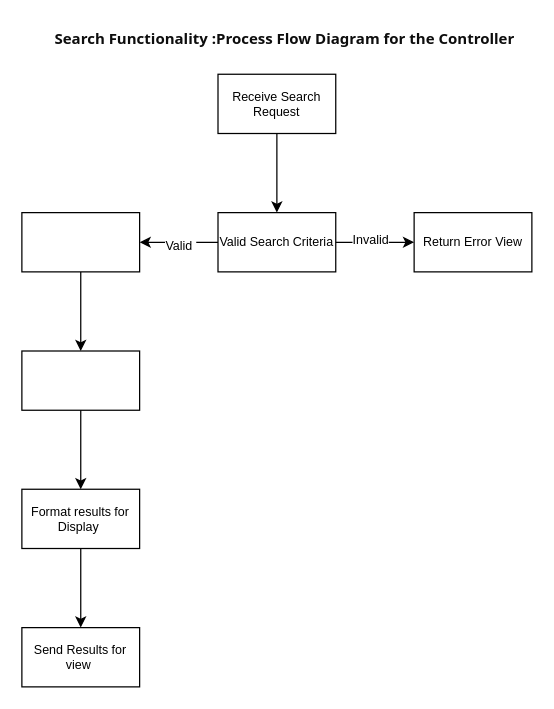
This 554x709 diagram has some shape labels left out. Each missing label, with the box of its shape:
Process Search Results: (21, 350, 140, 410)
Query Database with Criteria: (21, 211, 140, 272)
